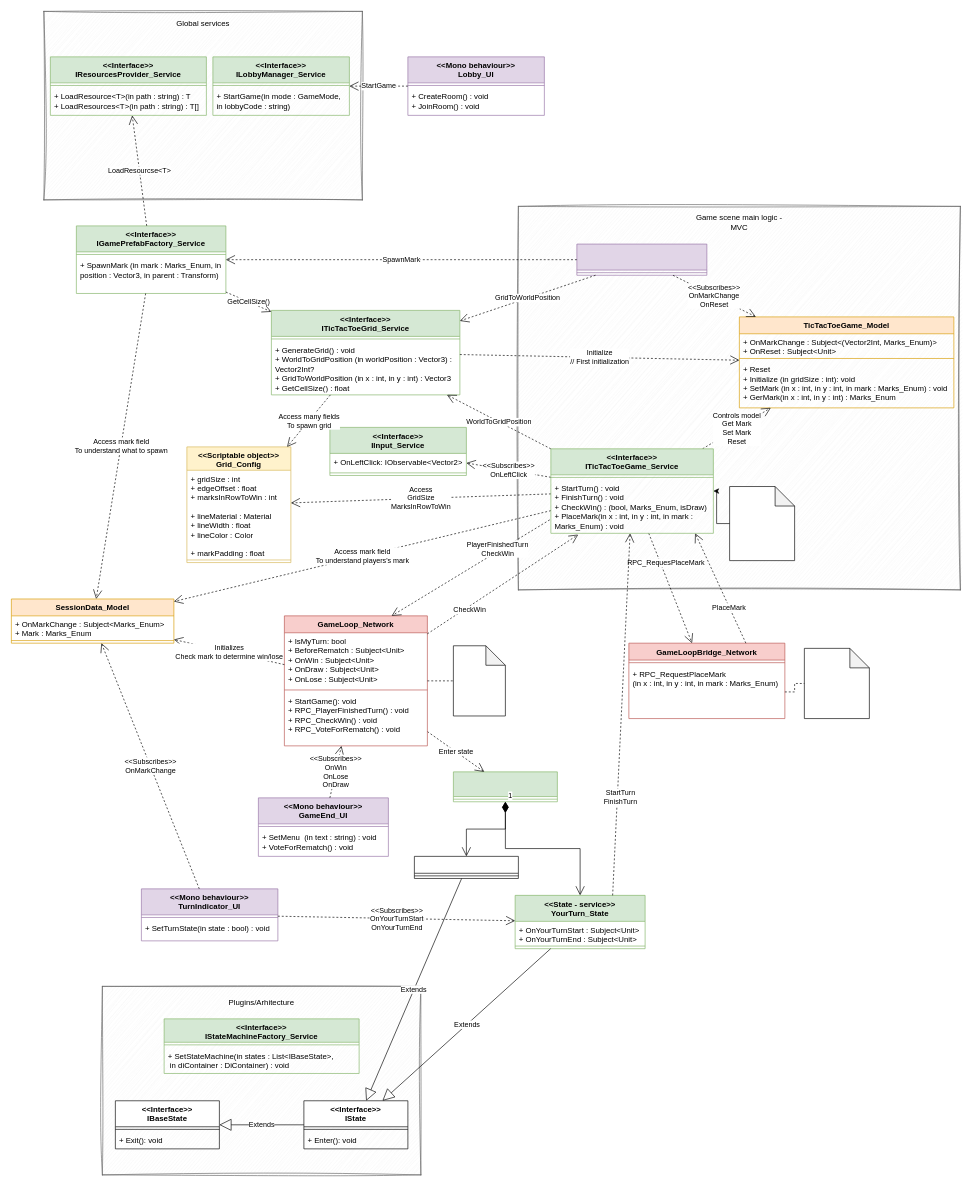
This 972x1186 diagram has some shape labels left out. Here are the shapes that lost their labels. From the top down, the centre of each, then its label:
At pixel 641 259: "<<Mono behaviour>> TicTacToeGame_View".
At pixel 762 523: "Controlls game field Match controller basically".
At pixel 479 680: "Controlls game loop".
At pixel 836 683: "Communication during game loop".
At pixel 505 786: "<<Service>> GameLoop_StateMachine".
At pixel 466 867: "WaitForOpponent_State".
